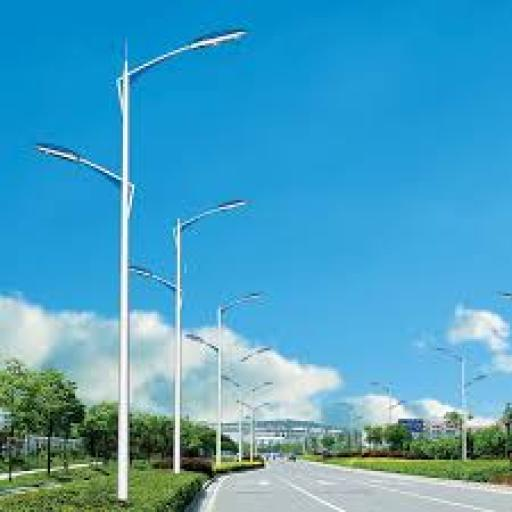Light-pole: (41, 20, 266, 512), (130, 192, 263, 497), (182, 283, 256, 486)
